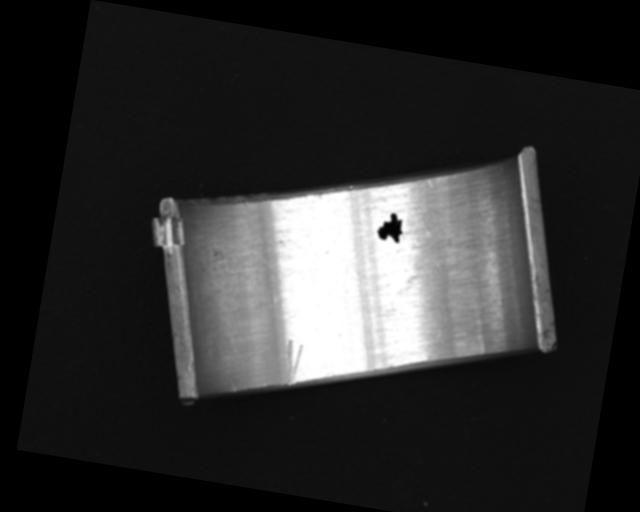blot: (375, 209, 407, 245)
nick: (279, 338, 305, 386), (228, 377, 237, 393)
